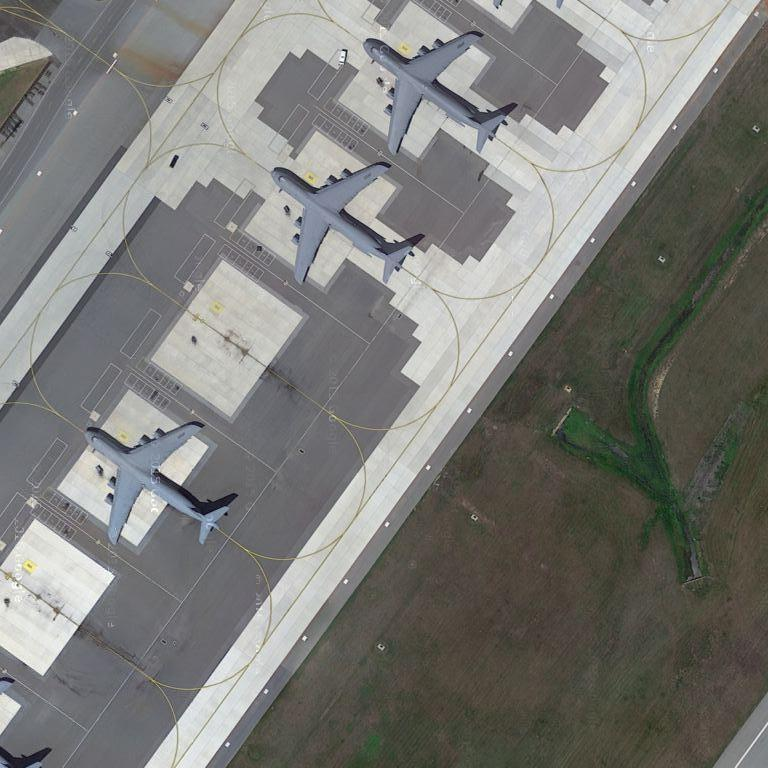KC-135: (78, 416, 235, 550), (362, 23, 513, 162), (272, 155, 419, 292)
